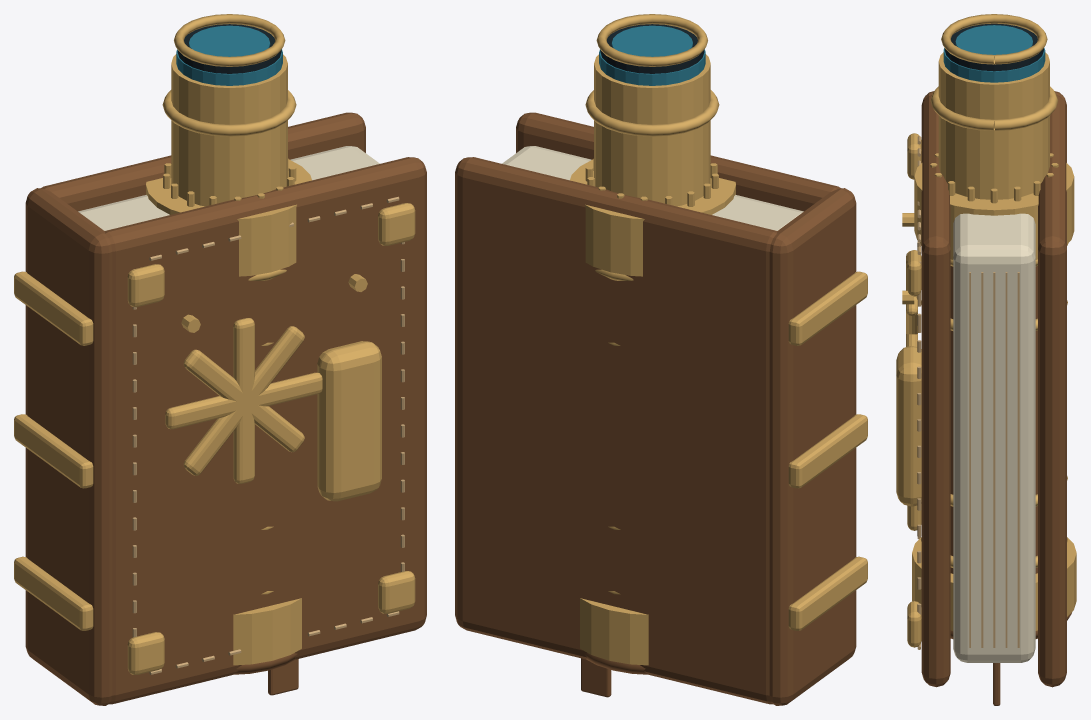
The model's file is props-v02.glb.
3 renders of one model, left to right at view 1: azimuth 30°, elevation 25°; view 2: azimuth 150°, elevation 25°; view 3: azimuth 270°, elevation 25°, orthographic. The views are drawn at different scales.
Visible parts, largest first — view 1: Cover, notebook_Cognac leather, Cover_Satin brass, telescope_Satin brass, notebook_Satin brass, Pages, telescope_Blue lens, Cover_Flax saddle stitch, V02 recessed objective seat; view 2: notebook_Cognac leather, telescope_Satin brass, notebook_Satin brass, Cover, Pages, telescope_Blue lens, V02 recessed objective seat; view 3: Pages, telescope_Satin brass, Cover, notebook_Cognac leather, Cover_Satin brass, notebook_Flax saddle stitch, telescope_Blue lens, telescope_Cognac leather, Cover_Flax saddle stitch, V02 recessed objective seat.
Boxes of the visible parts, x1,y1,x2,y2 form: Cover: (104,157,426,704); notebook_Cognac leather: (25,112,365,705); Cover_Satin brass: (127,203,415,674); telescope_Satin brass: (146,14,311,665); notebook_Satin brass: (14,271,93,630); Pages: (78,146,379,230); telescope_Blue lens: (176,25,282,85); Cover_Flax saddle stitch: (132,196,404,674); V02 recessed objective seat: (177,24,281,73); notebook_Cognac leather: (455,157,856,705); telescope_Satin brass: (570,14,735,665); notebook_Satin brass: (788,271,867,630); Cover: (516,112,840,211); Pages: (502,146,803,230); telescope_Blue lens: (599,25,705,85); V02 recessed objective seat: (600,24,704,73); Pages: (953,213,1035,662); telescope_Satin brass: (912,14,1076,630); Cover: (921,95,950,687); notebook_Cognac leather: (921,91,1066,705); Cover_Satin brass: (896,133,921,647); notebook_Flax saddle stitch: (969,272,1019,647); telescope_Blue lens: (943,25,1045,82); telescope_Cognac leather: (950,266,1071,638); Cover_Flax saddle stitch: (917,136,921,649); V02 recessed objective seat: (944,23,1043,71).
Size of the model in its own units: 0.158 by 0.2912 by 0.0745.
